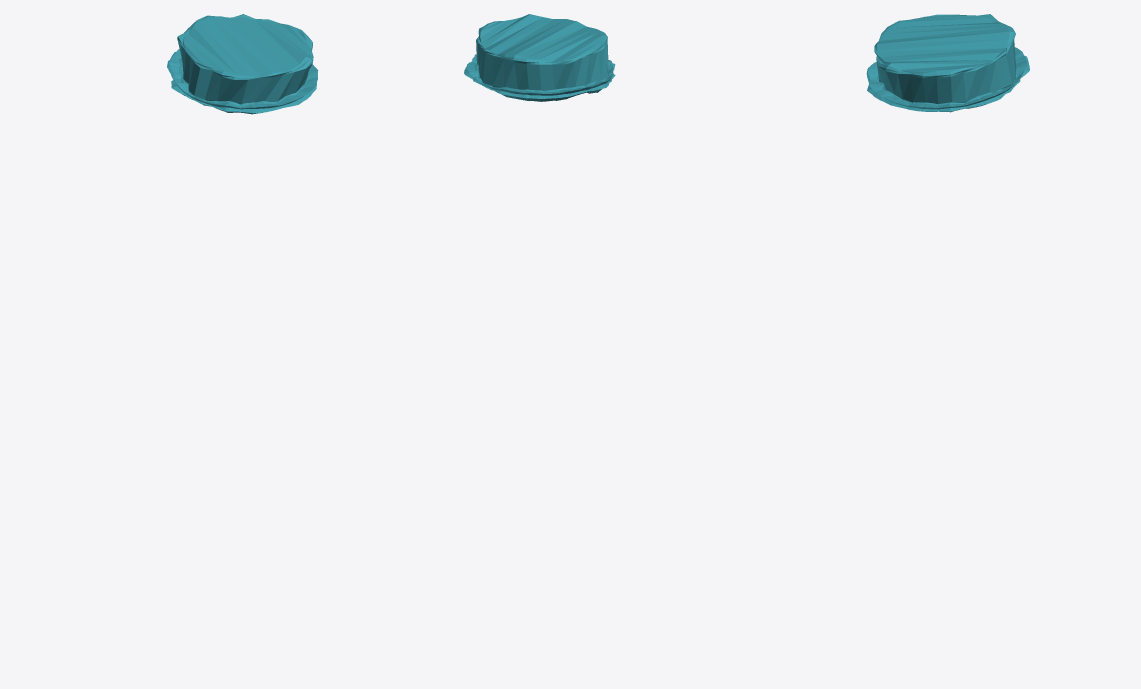
The model's file is crush_medium_0.obj.
3 renders of one model, left to right at view 1: azimuth 30°, elevation 25°; view 2: azimuth 150°, elevation 25°; view 3: azimuth 270°, elevation 25°, orthographic. The views are drawn at different scales.
Visible parts, largest first — view 1: model; view 2: model; view 3: model.
Boxes of the visible parts, x1,y1,x2,y2 form: model: (167, 14, 318, 114); model: (464, 14, 615, 101); model: (866, 14, 1029, 112).
Size of the model in its own units: 0.087 by 0.1558 by 0.0783.
1 material, 1 textured.
